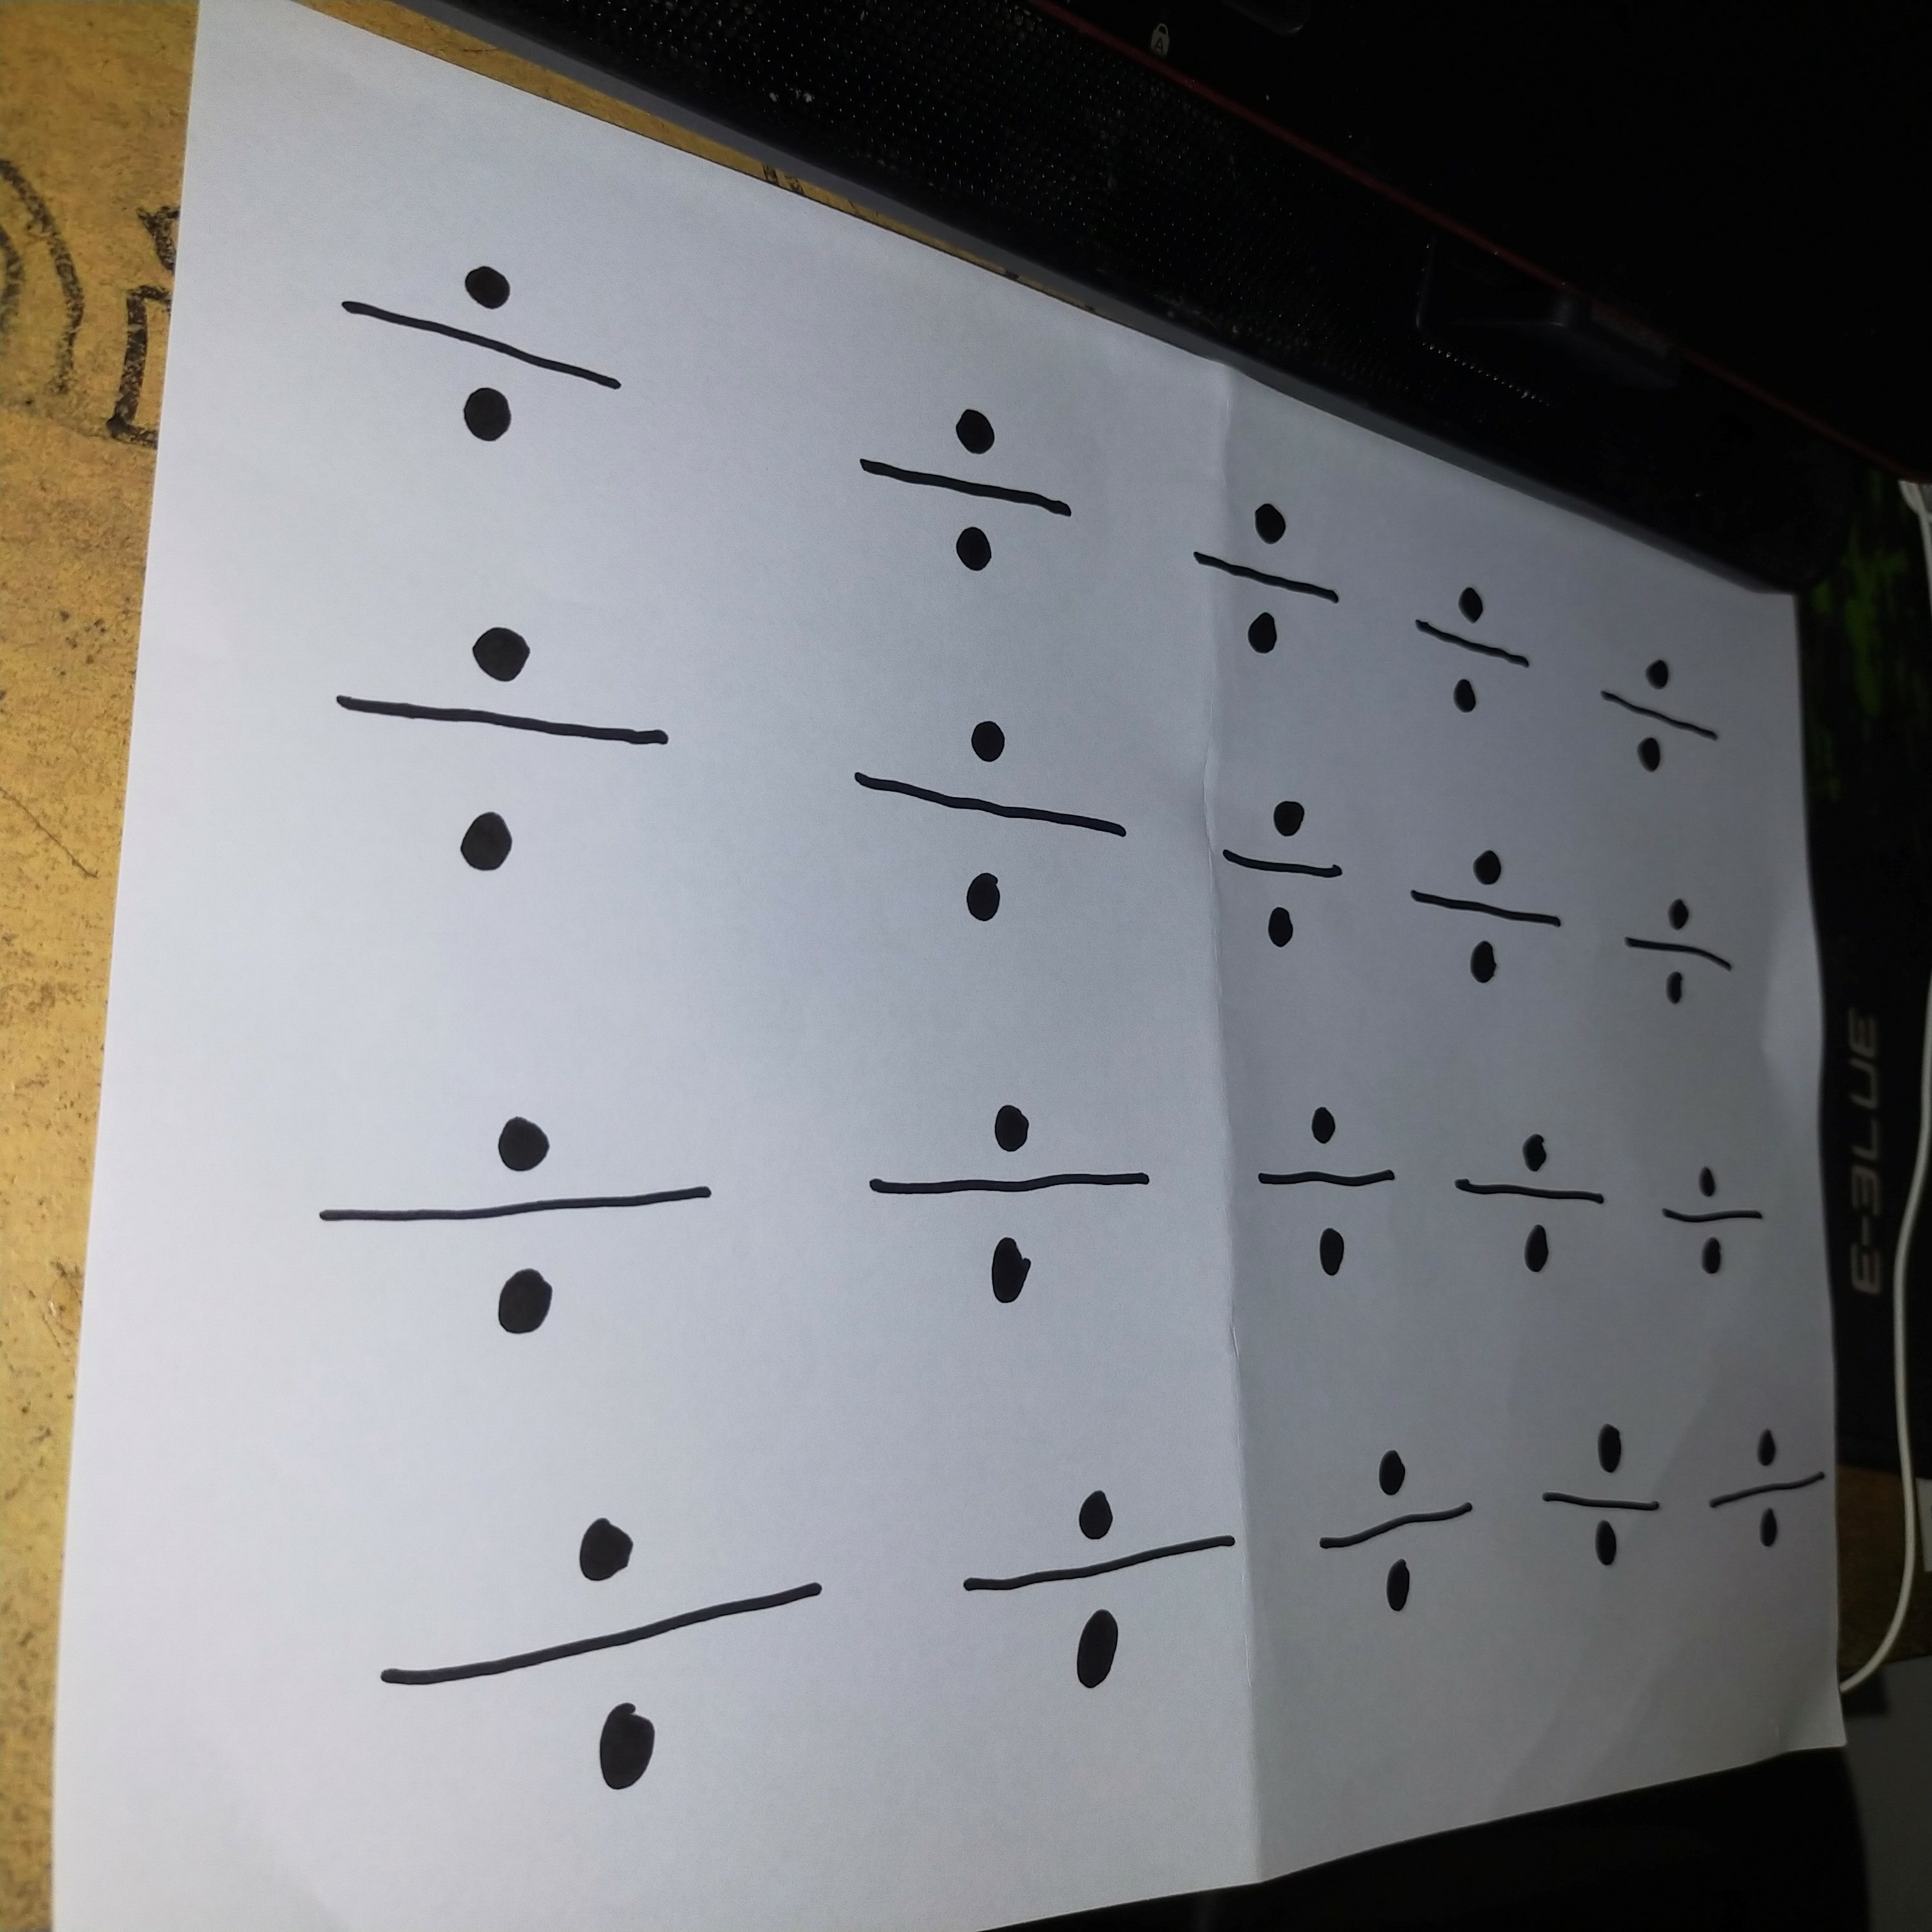div: (359, 1514, 878, 1804), (304, 1104, 751, 1358), (327, 612, 687, 884), (829, 700, 1143, 950), (329, 228, 643, 464), (855, 1084, 1173, 1307), (952, 1479, 1251, 1700), (849, 388, 1084, 587), (1180, 480, 1354, 675), (1446, 1115, 1633, 1291), (1239, 1102, 1408, 1295), (1313, 1442, 1488, 1623), (1401, 837, 1573, 999), (1209, 795, 1366, 965), (1535, 1416, 1672, 1577), (1403, 573, 1543, 721), (1596, 643, 1727, 791), (1617, 889, 1750, 1024), (1701, 1422, 1828, 1558), (1653, 1153, 1777, 1283)
